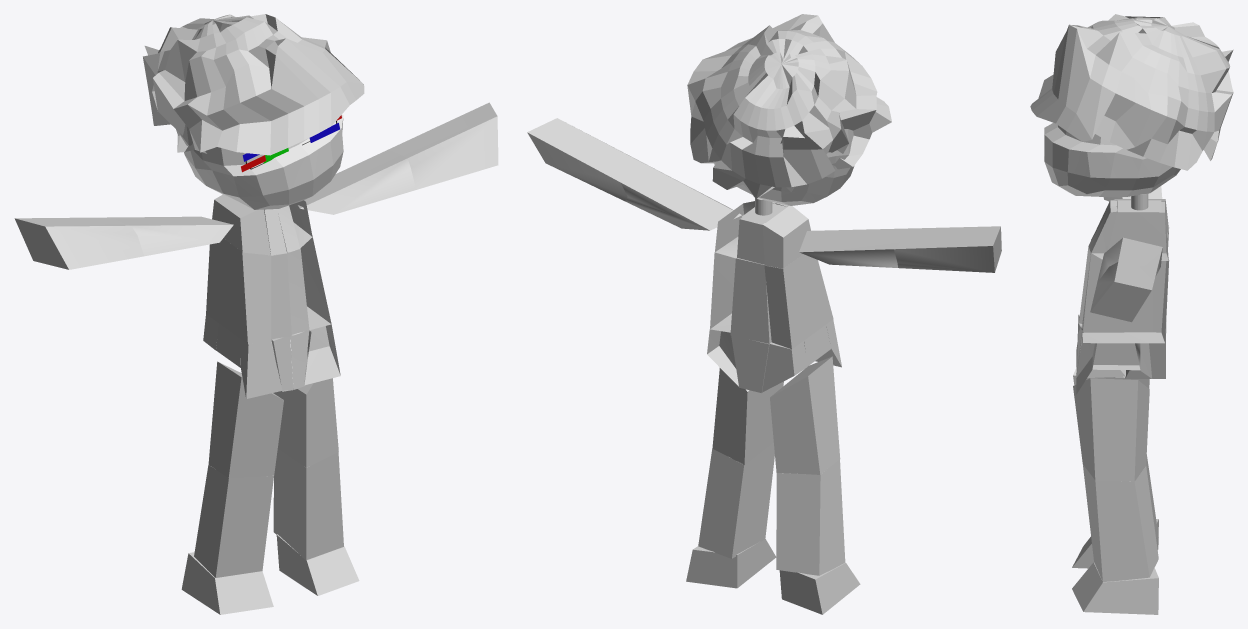
Rendered from Glitcher_hospitalV1.glb.
3 views of the same model, side by side, from view 1: azimuth 30°, elevation 25°; view 2: azimuth 150°, elevation 25°; view 3: azimuth 270°, elevation 25° (orthographic). The views are drawn at different scales.
Visible parts, largest first — view 1: Sphere.003, Cube.013, Cube.004, Cube.005, Cube.007, Cube.002, Cube.009, Cube.008, Cube.017, Cube.003, Cube.001, Cube.006 (+1 smaller); view 2: Sphere.003, Cube.013, Cube.004, Cube.005, Cube.007, Cube.002, Cube.009, Cube.008, Cube.017, Cube.001, Cube.006, Cube.003 (+1 smaller); view 3: Sphere.003, Cube.013, Cube.008, Cube.007, Cube.006, Cube.002, Cube.017, Cube.003, Plane.001.
Boxes of the visible parts, x1,y1,x2,y2 form: Sphere.003: (143,14,364,209); Cube.013: (203,194,340,398); Cube.004: (194,465,273,577); Cube.005: (208,361,283,478); Cube.007: (273,449,343,560); Cube.002: (389,102,498,189); Cube.009: (14,217,143,269); Cube.008: (273,351,338,467); Cube.017: (298,149,415,214); Cube.003: (181,552,273,614); Cube.001: (110,216,233,256); Cube.006: (276,534,359,595); Sphere.003: (687,14,891,205); Cube.013: (707,201,841,392); Cube.004: (776,459,845,575); Cube.005: (770,356,840,474); Cube.007: (698,442,774,558); Cube.002: (527,118,642,201); Cube.009: (894,226,1001,272); Cube.008: (712,368,783,464); Cube.017: (620,162,741,230); Cube.001: (799,228,912,267); Cube.006: (686,539,776,588); Cube.003: (779,562,860,614); Sphere.003: (1030,14,1233,196); Cube.013: (1076,199,1169,394); Cube.008: (1073,378,1149,481); Cube.007: (1083,465,1158,581); Cube.006: (1072,562,1158,614); Cube.002: (1090,262,1157,322); Cube.017: (1097,237,1162,282); Cube.003: (1072,519,1158,568); Plane.001: (1118,200,1161,212).
Bounding box in the file's own units: 3.77 × 4.31 × 1.44.
2 materials, 1 textured.
